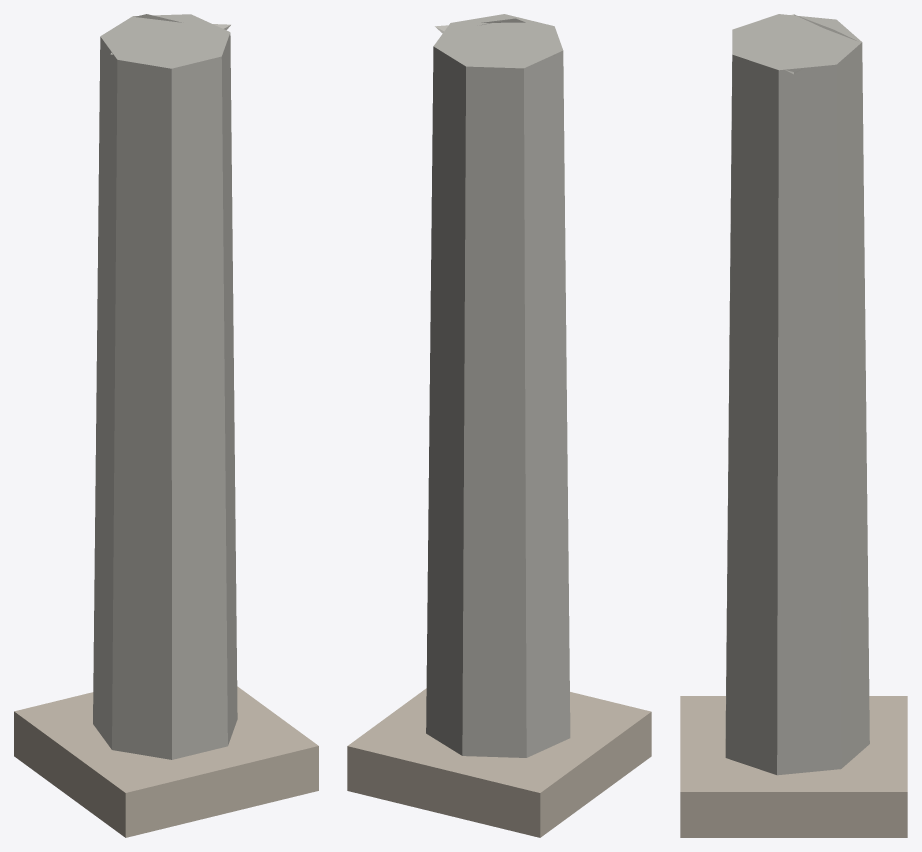
File: column_v14.glb
The picture shows the model from 3 angles, left to right: view 1: azimuth 30°, elevation 25°; view 2: azimuth 150°, elevation 25°; view 3: azimuth 270°, elevation 25°; orthographic projection. The views are drawn at different scales.
Visible parts, largest first — view 1: lod0; view 2: lod0; view 3: lod0.
Part boxes in pixels (x1=…): lod0: x1=14, y1=14, x2=318, y2=837; lod0: x1=347, y1=14, x2=651, y2=837; lod0: x1=680, y1=14, x2=907, y2=837.
Size of what is drawn, in the model's own units: 0.72 by 2.69 by 0.72.
